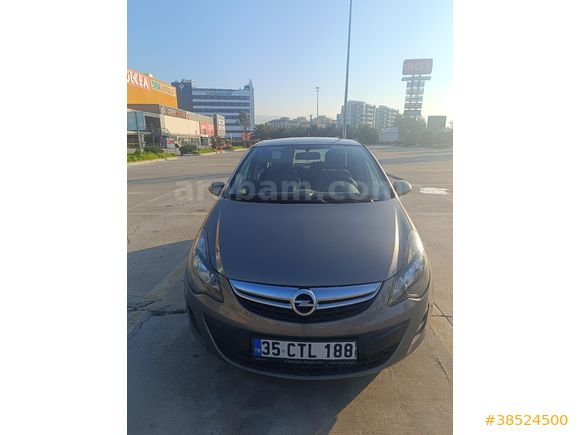plate: (254, 337, 356, 361)
